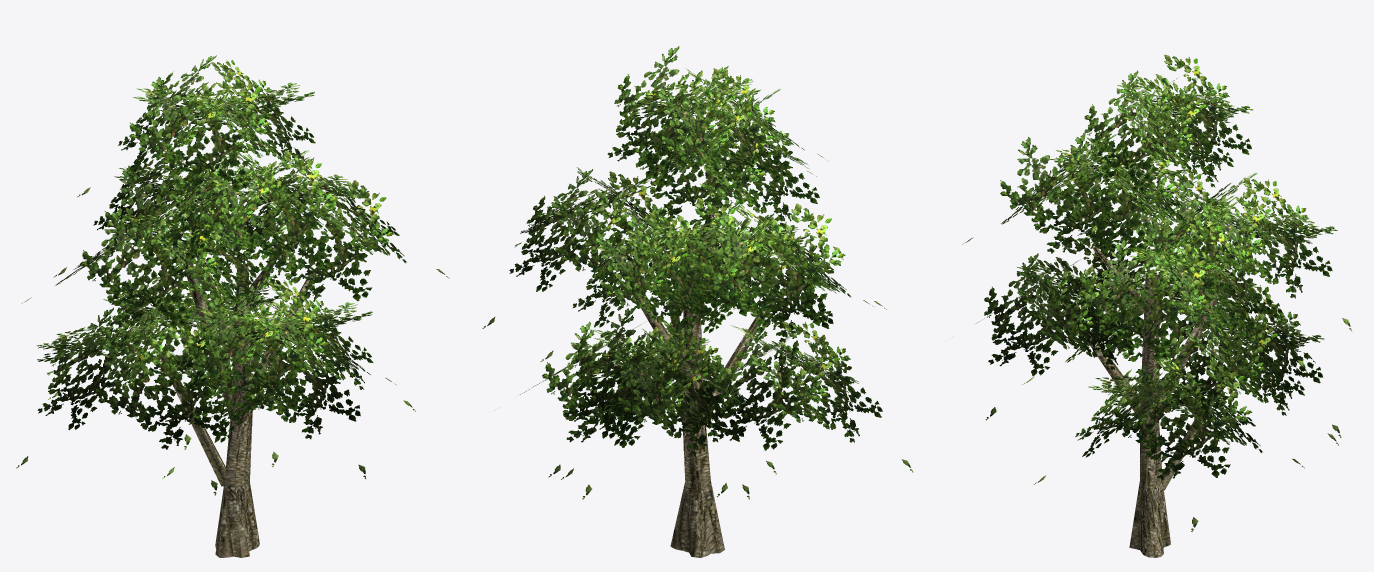
File: oak-large-1.glb
3 renders of one model, left to right at view 1: azimuth 30°, elevation 25°; view 2: azimuth 150°, elevation 25°; view 3: azimuth 270°, elevation 25°, orthographic. The views are drawn at different scales.
Visible parts, largest first — view 1: oak-large-1; view 2: oak-large-1; view 3: oak-large-1.
Boxes of the visible parts, left/top/right/bottom form: oak-large-1: left=16, top=55, right=449, bottom=557; oak-large-1: left=482, top=46, right=913, bottom=557; oak-large-1: left=962, top=54, right=1352, bottom=557.
Bounding box in the file's own units: 18.58 × 20.7 × 16.47.
2 materials, 2 textured.
